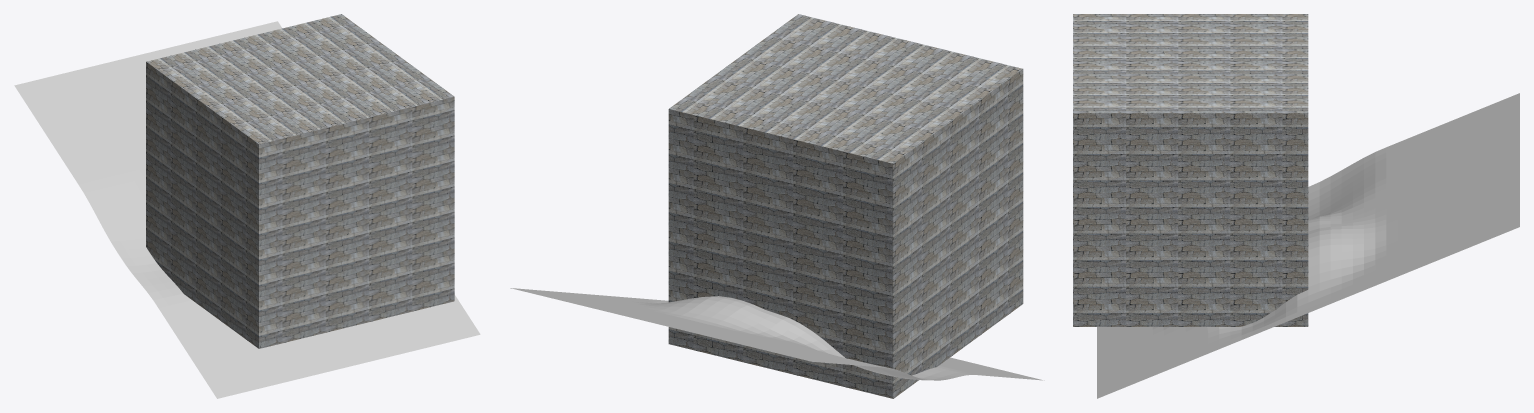
Rendered from GameClear.gltf.
The picture shows the model from 3 angles, left to right: view 1: azimuth 30°, elevation 25°; view 2: azimuth 150°, elevation 25°; view 3: azimuth 270°, elevation 25°; orthographic projection. The views are drawn at different scales.
Parts seen in each view (by area): view 1: Cube, map; view 2: Cube, map; view 3: Cube, map.
Boxes of the visible parts, x1=… form: Cube: x1=146, y1=14, x2=454, y2=348; map: x1=14, y1=21, x2=480, y2=398; Cube: x1=668, y1=14, x2=1023, y2=398; map: x1=510, y1=288, x2=1044, y2=380; Cube: x1=1073, y1=14, x2=1308, y2=326; map: x1=1097, y1=93, x2=1519, y2=398.
Bounding box in the file's own units: 24.15 × 22.38 × 34.02.
